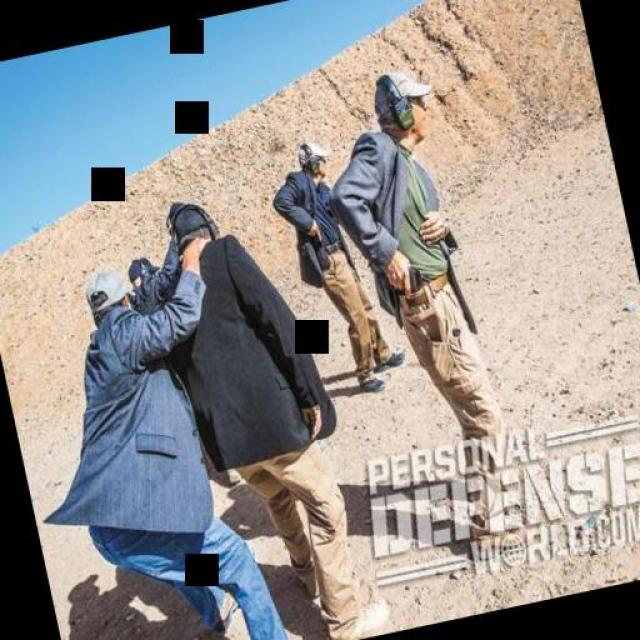gun: (384, 260, 424, 304), (304, 216, 326, 250)
